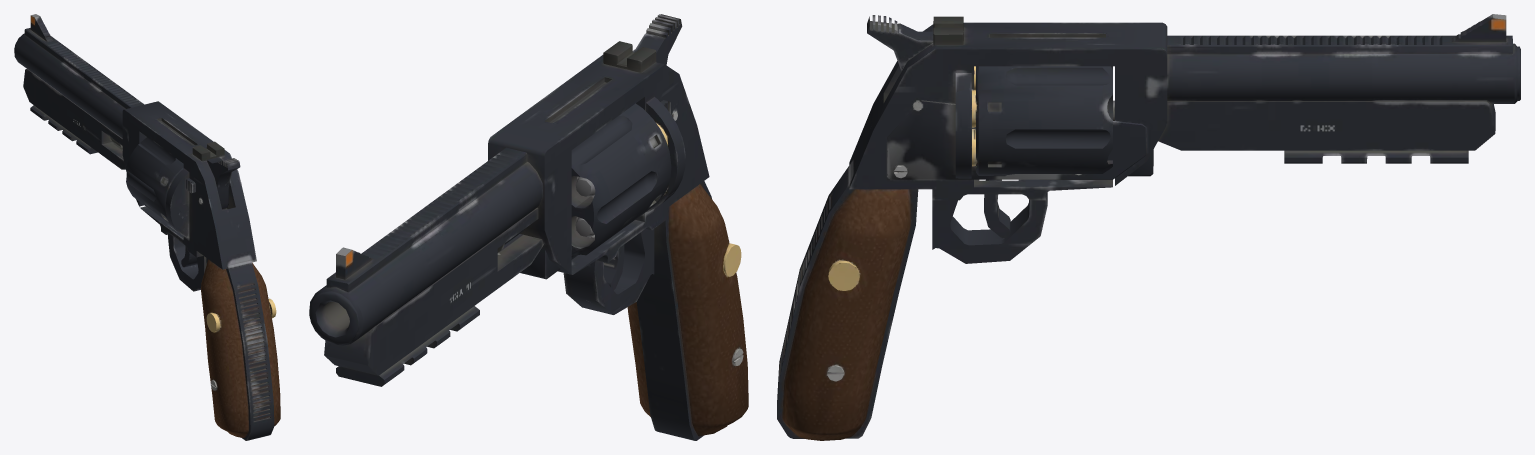
Rendered from revolver_38_leve.glb.
The picture shows the model from 3 angles, left to right: view 1: azimuth 30°, elevation 25°; view 2: azimuth 150°, elevation 25°; view 3: azimuth 270°, elevation 25°; orthographic projection. The views are drawn at different scales.
Visible parts, largest first — view 1: revolver_38_leve; view 2: revolver_38_leve; view 3: revolver_38_leve.
Part boxes in pixels (bbox=[...]): revolver_38_leve: bbox=[14, 14, 280, 440]; revolver_38_leve: bbox=[309, 14, 748, 440]; revolver_38_leve: bbox=[777, 14, 1520, 440].
Size of the model in its own units: 0.0387 by 0.1333 by 0.2173.
1 material, 1 textured.
